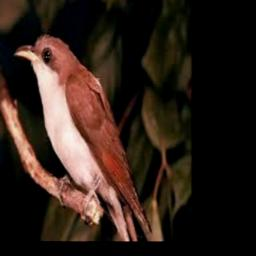Cuckoo: (14, 34, 153, 234)
